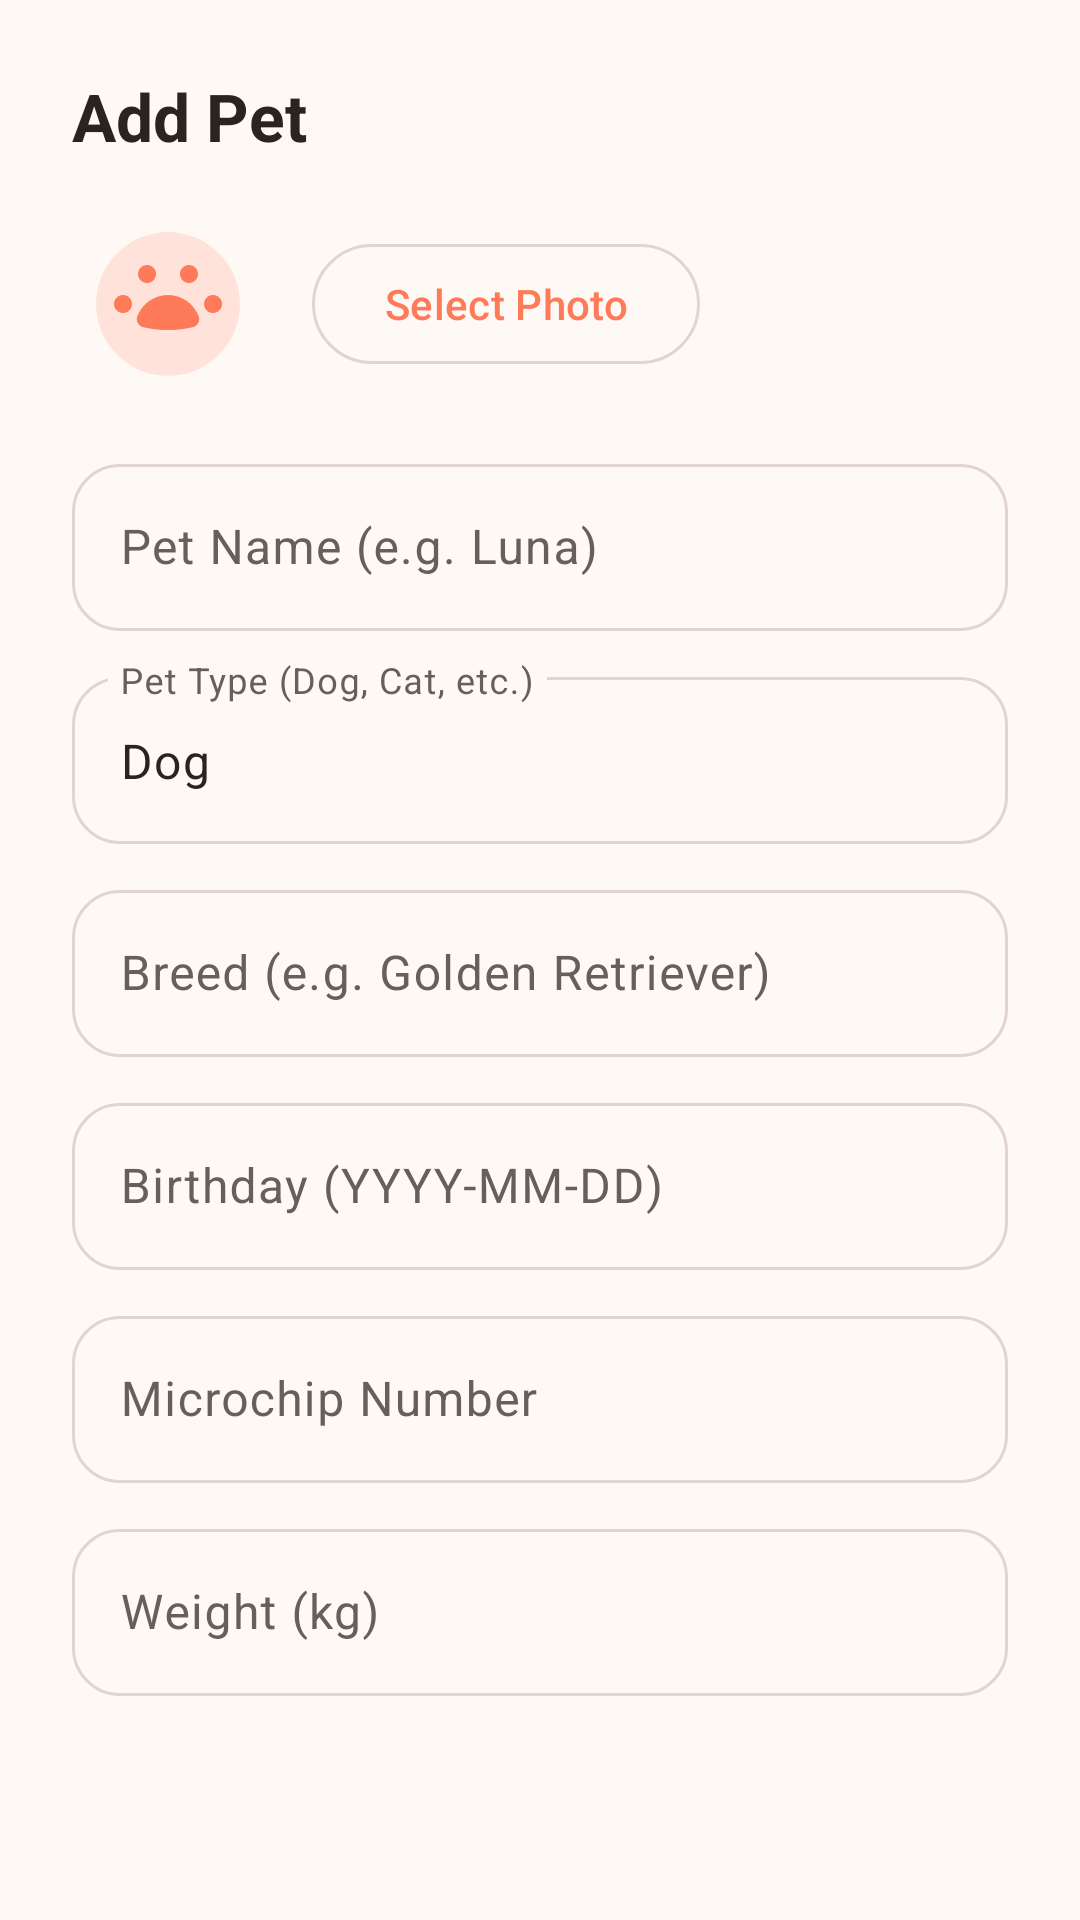

Icons on this 1080*1920 Android screen, each with its box as (left=x1, top=y1, right=x2, bottom=y2):
pets: (left=96, top=232, right=240, bottom=376)
